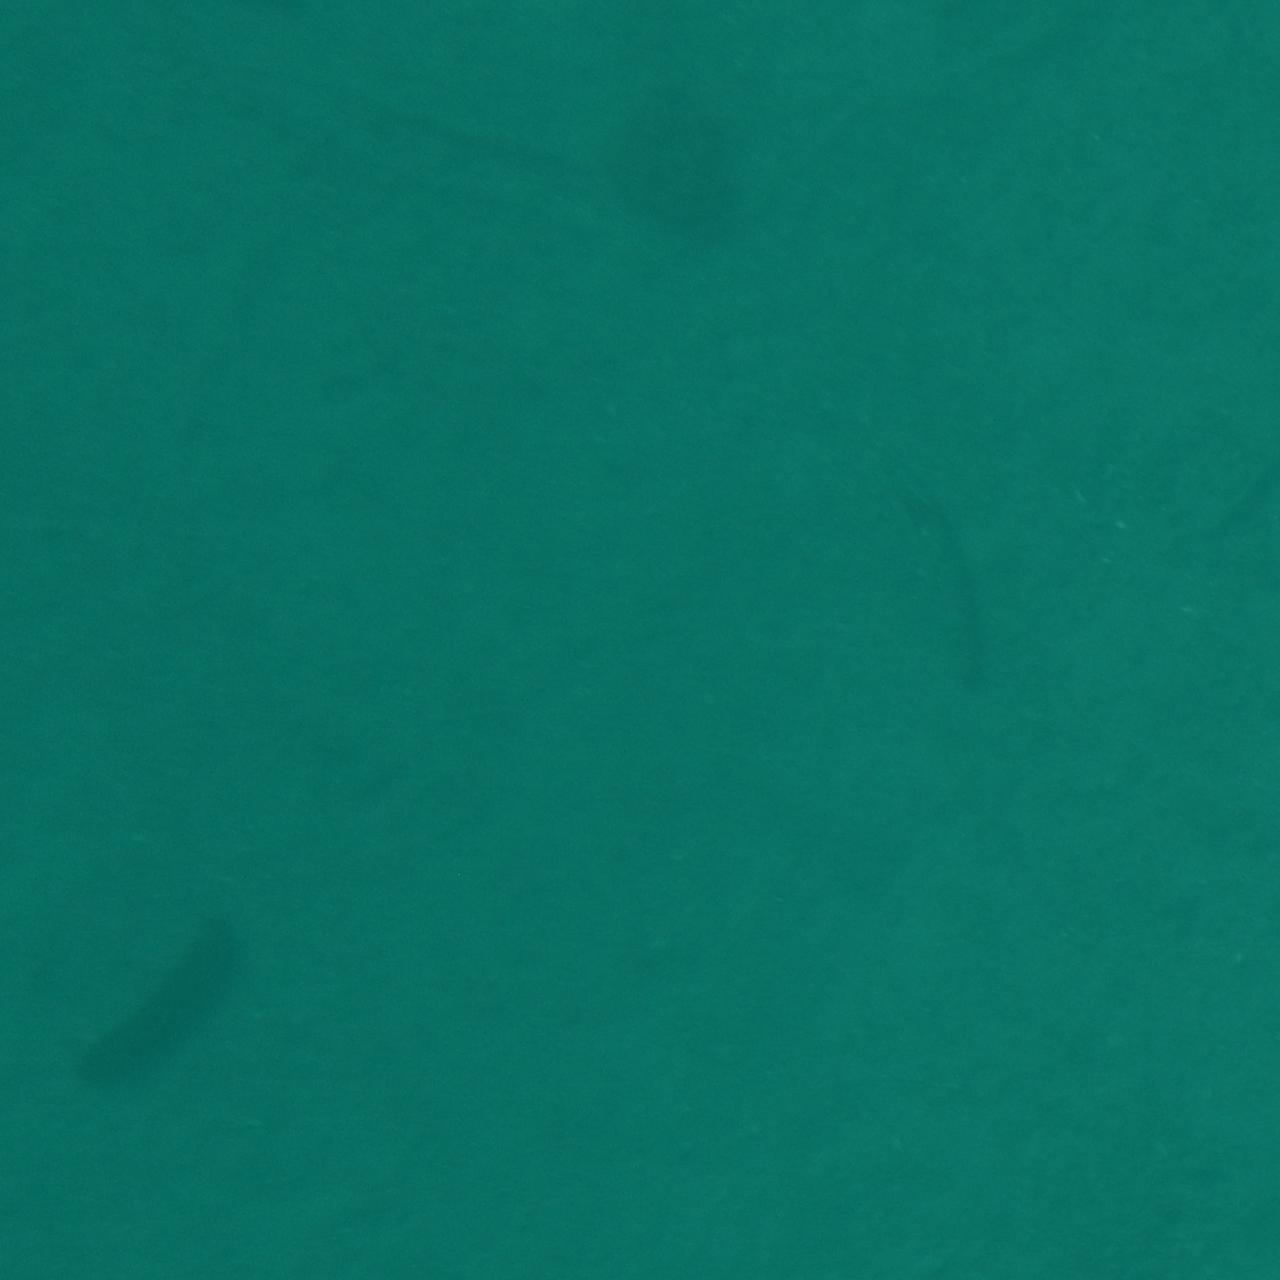Holothuria tubulosa: (881, 505, 1056, 741), (61, 914, 268, 1112), (5, 0, 307, 84), (888, 0, 1182, 64), (1019, 0, 1280, 70), (1177, 0, 1280, 176), (237, 1220, 463, 1280), (0, 1223, 113, 1280), (1242, 0, 1280, 144)
